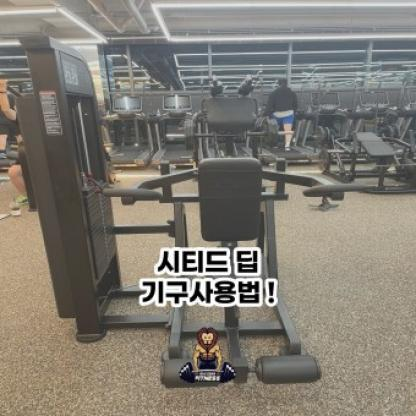seated dip machine: (13, 34, 369, 389)
